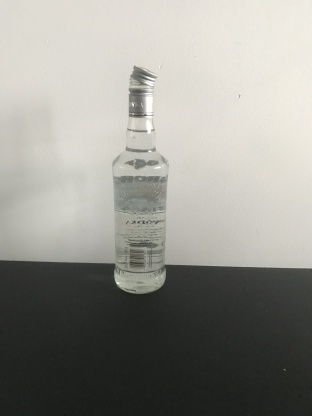nakretka: (126, 62, 159, 118)
